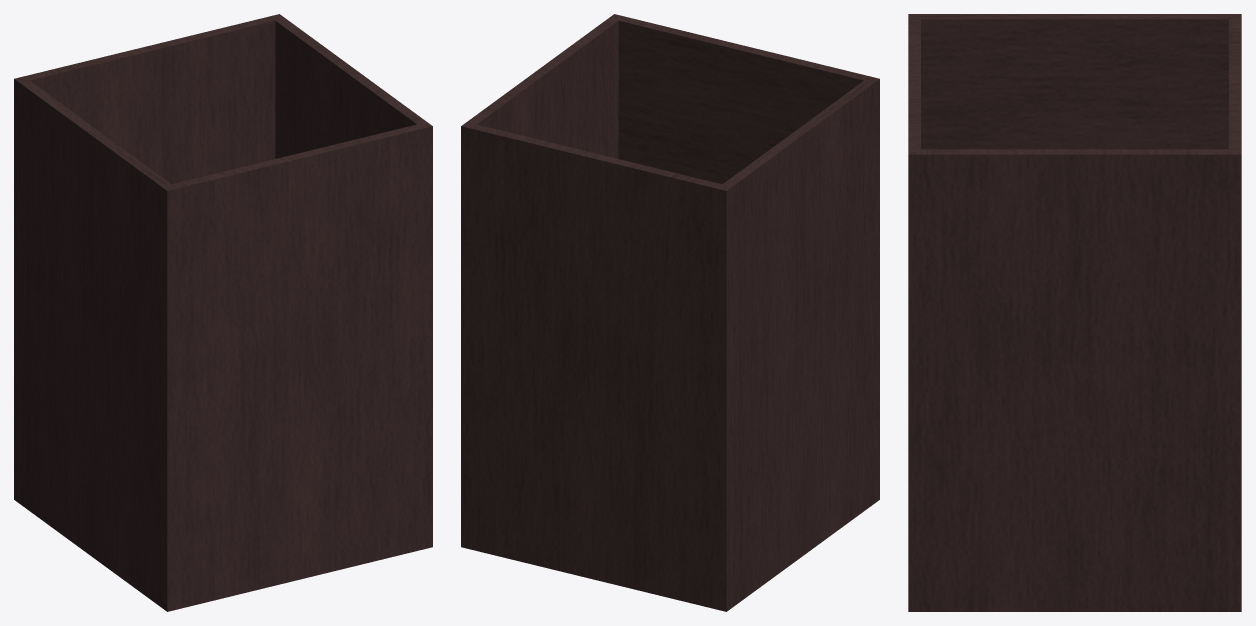
The model's file is PencilCase.fbx.
3 views of the same model, side by side, from view 1: azimuth 30°, elevation 25°; view 2: azimuth 150°, elevation 25°; view 3: azimuth 270°, elevation 25° (orthographic). The views are drawn at different scales.
Visible parts, largest first — view 1: PencilCase; view 2: PencilCase; view 3: PencilCase.
Part boxes in pixels (bbox=[...]): PencilCase: bbox=[14, 14, 432, 611]; PencilCase: bbox=[461, 14, 879, 611]; PencilCase: bbox=[908, 14, 1241, 611].
Size of the model in its own units: 7.26 by 11 by 7.26.
